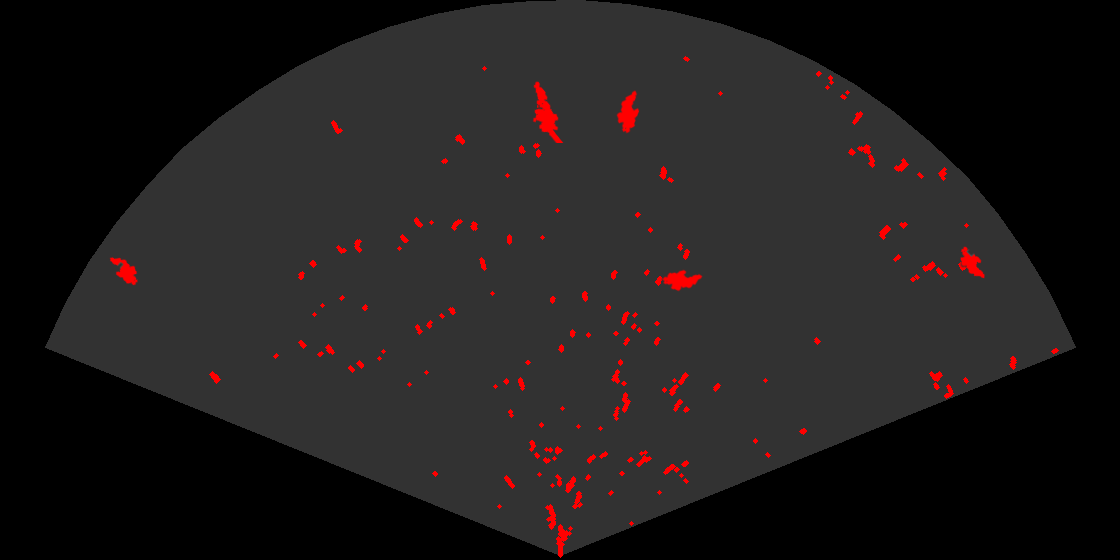AUV: (615, 89, 641, 135), (661, 268, 704, 293), (959, 245, 987, 280), (108, 256, 139, 287)
frogman: (531, 80, 565, 143)
